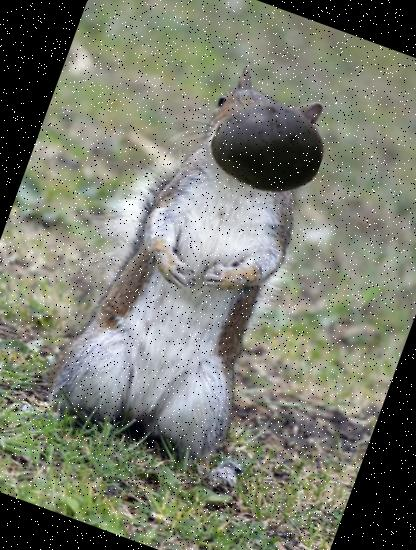Plum: (196, 74, 340, 218)
